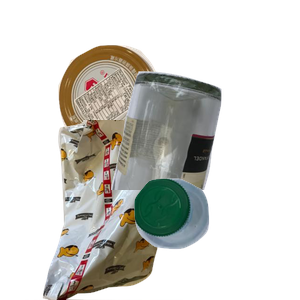glass: (109, 69, 300, 249)
metal: (56, 43, 211, 187)
plastic: (132, 176, 300, 300)
trash: (25, 120, 198, 300)
